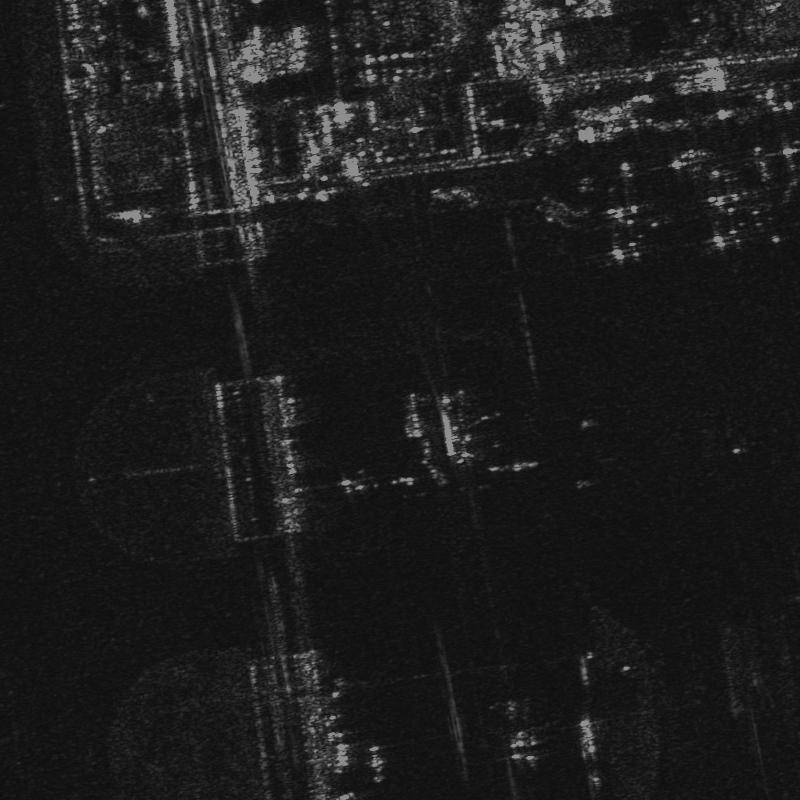Boeing787: (588, 162, 666, 260), (689, 157, 761, 244)
